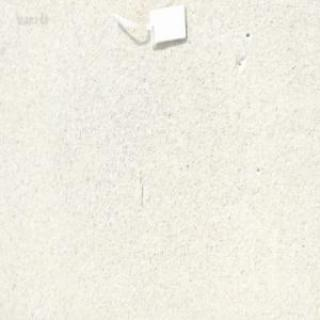LuggageTagtrack_idkeyframe: (107, 2, 187, 52)
